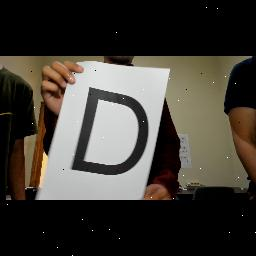d: (72, 82, 148, 180)
